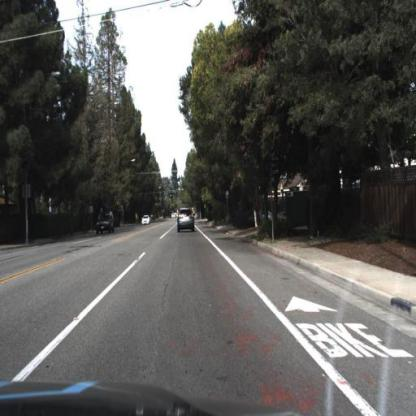car: (176, 205, 197, 238), (97, 210, 115, 238), (139, 209, 155, 229)
